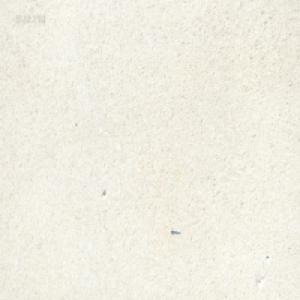Nail: (170, 227, 180, 235)
